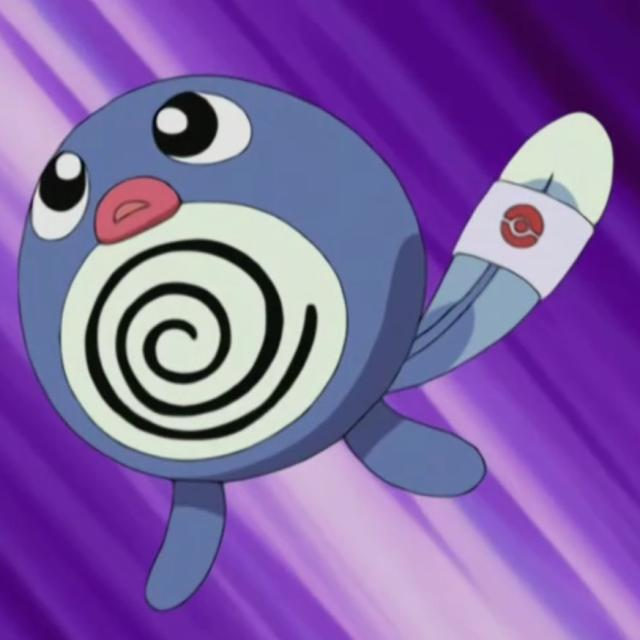Poliwag: (15, 63, 509, 533)
